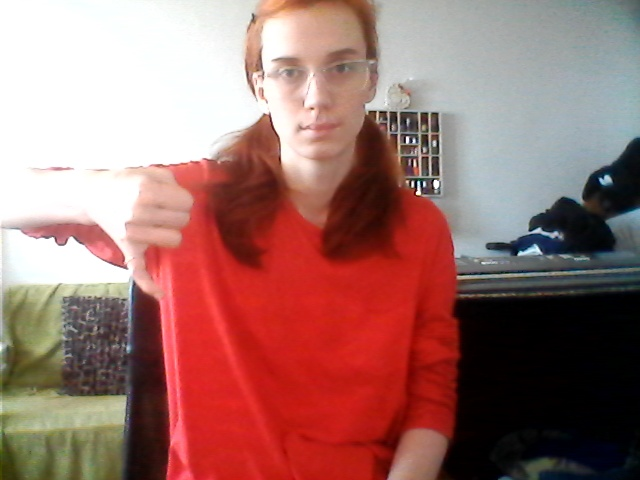j: (91, 152, 193, 310)
